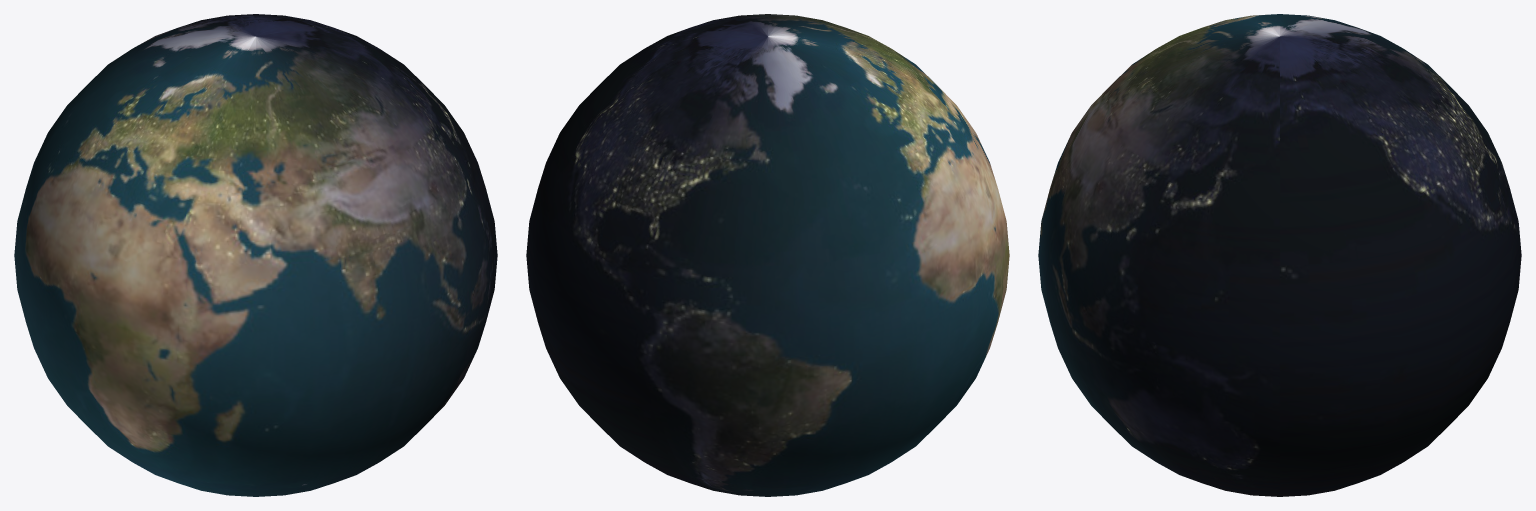
File: earth_D_N.glb
The picture shows the model from 3 angles, left to right: view 1: azimuth 30°, elevation 25°; view 2: azimuth 150°, elevation 25°; view 3: azimuth 270°, elevation 25°; orthographic projection.
Parts seen in each view (by area): view 1: sphere1; view 2: sphere1; view 3: sphere1.
Boxes of the visible parts, <box> form: sphere1: <box>14,14,497,496</box>; sphere1: <box>526,14,1009,496</box>; sphere1: <box>1038,14,1521,496</box>.
Bounding box in the file's own units: 2 × 2 × 2.
1 material, 1 textured.
